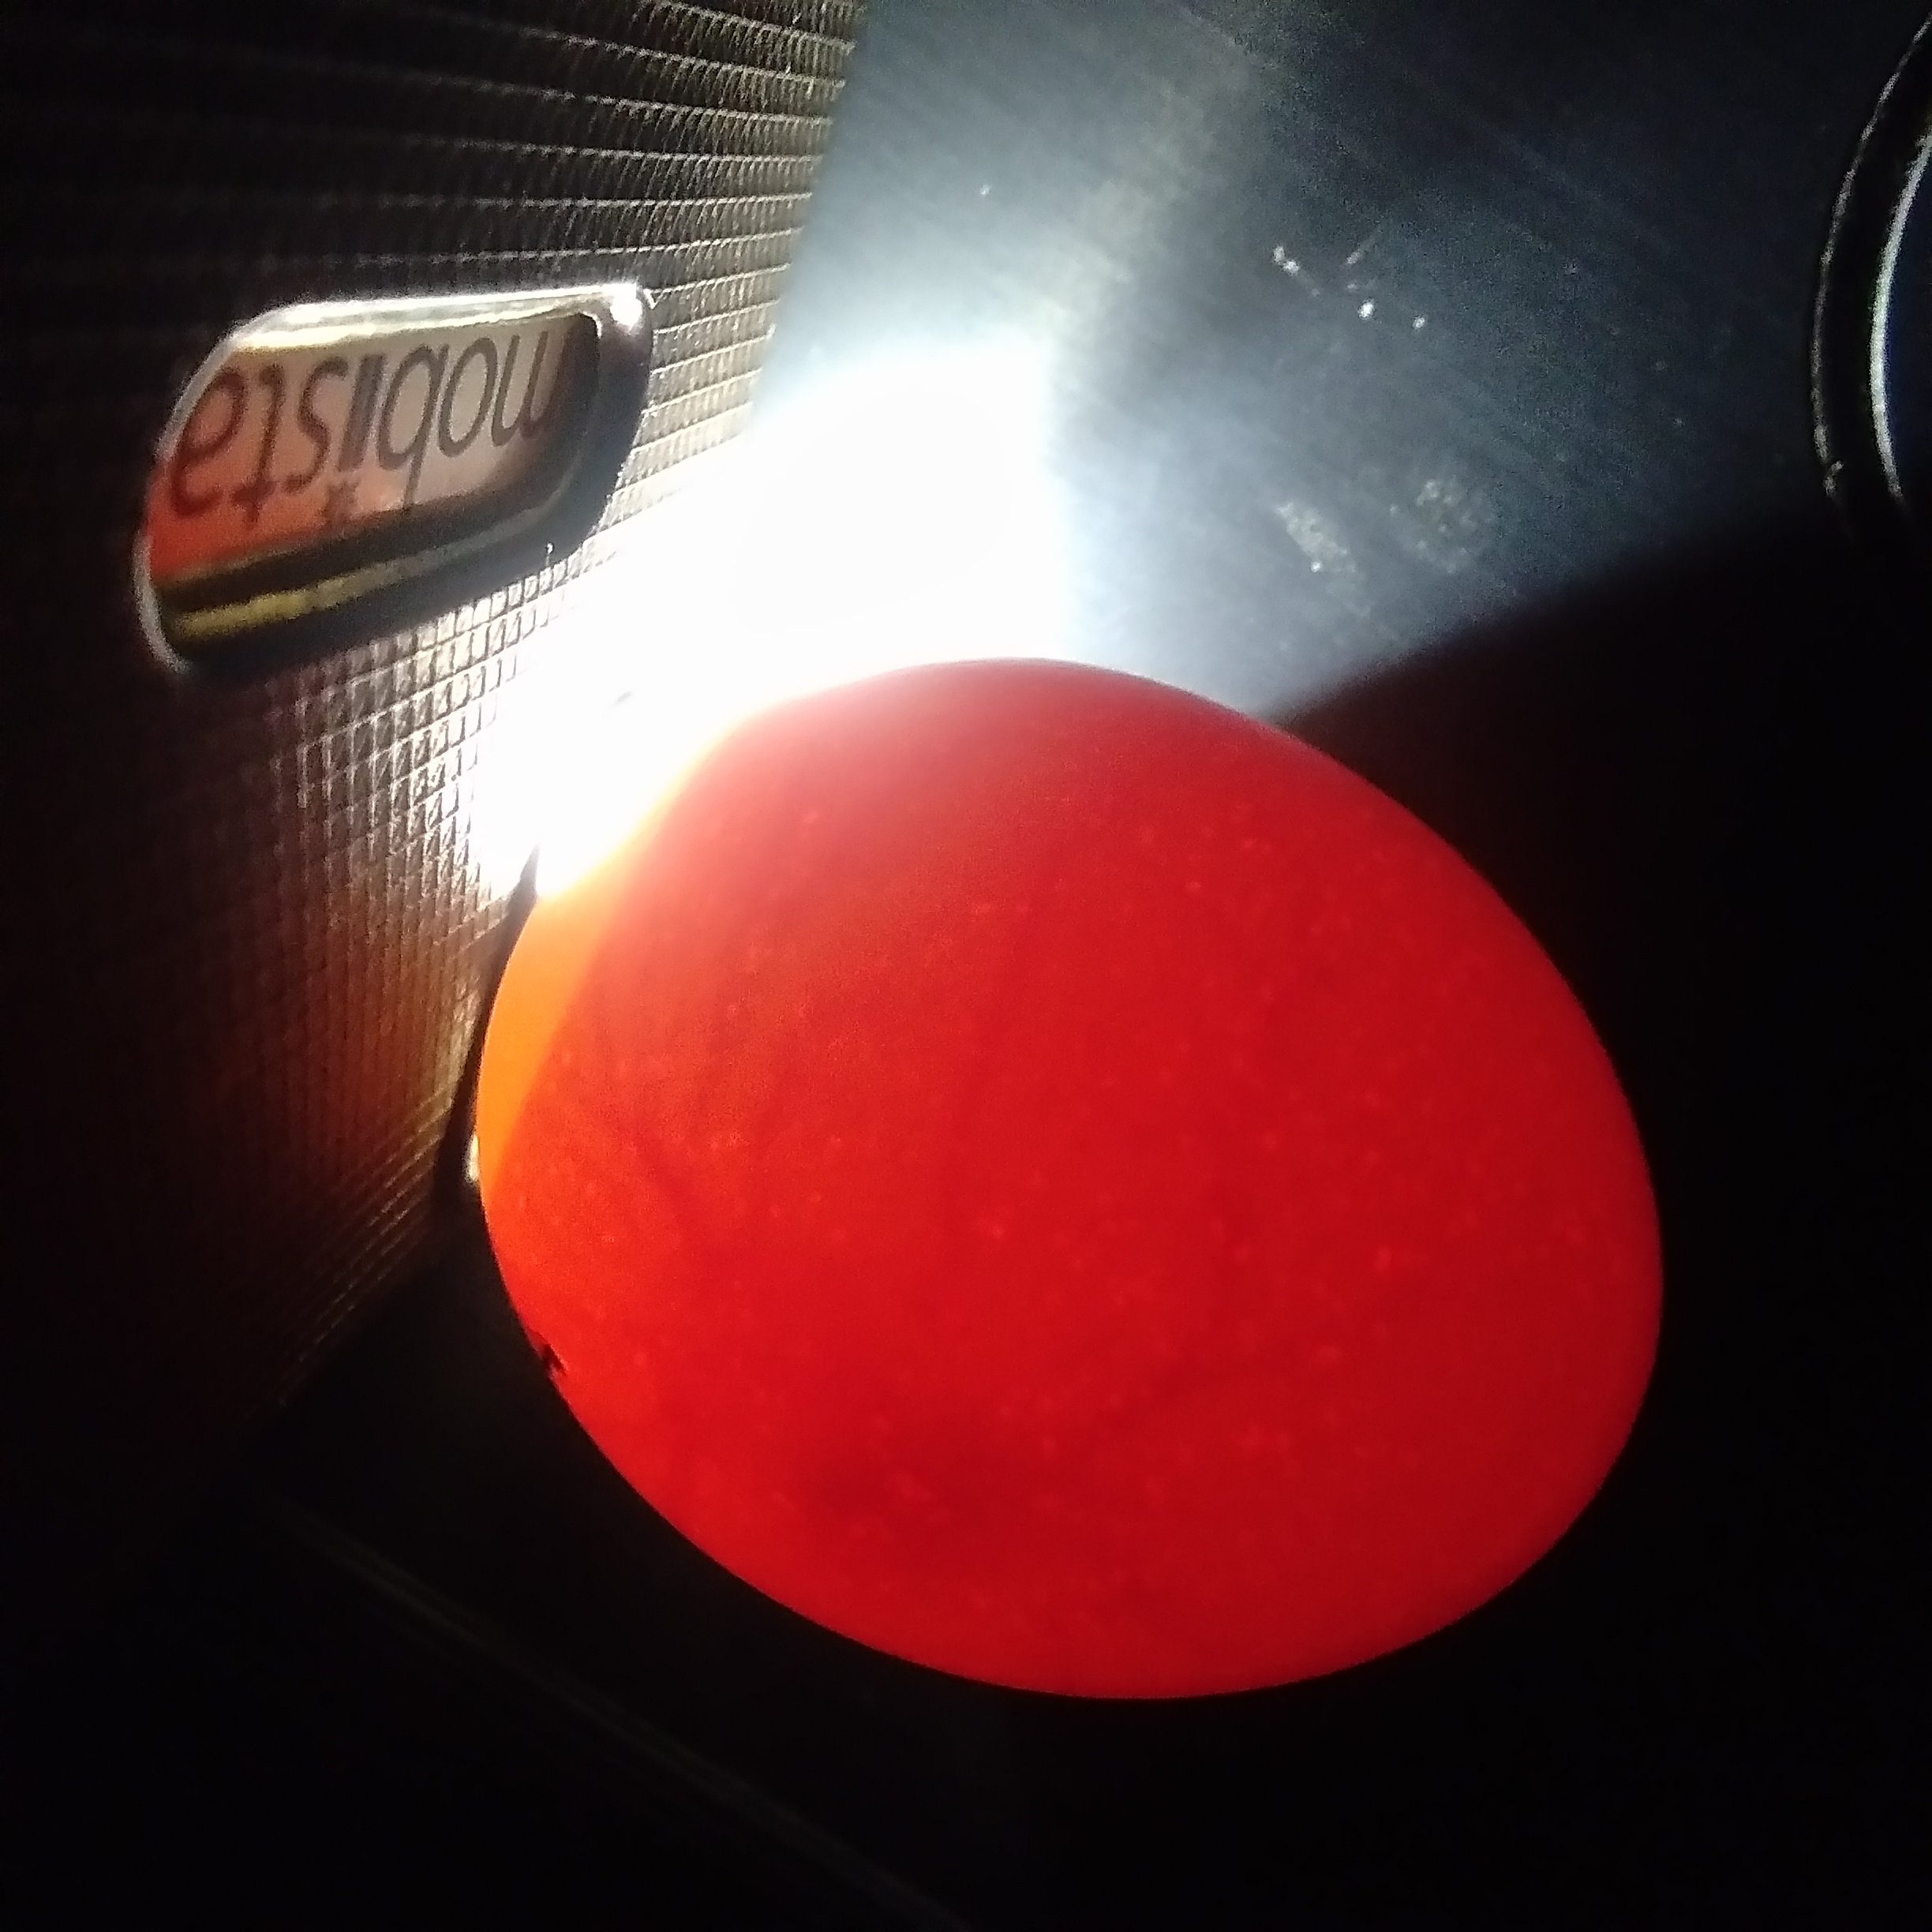bloodcell: (690, 816, 1129, 1265), (515, 1010, 676, 1251)
embryo: (732, 1396, 1058, 1583)
